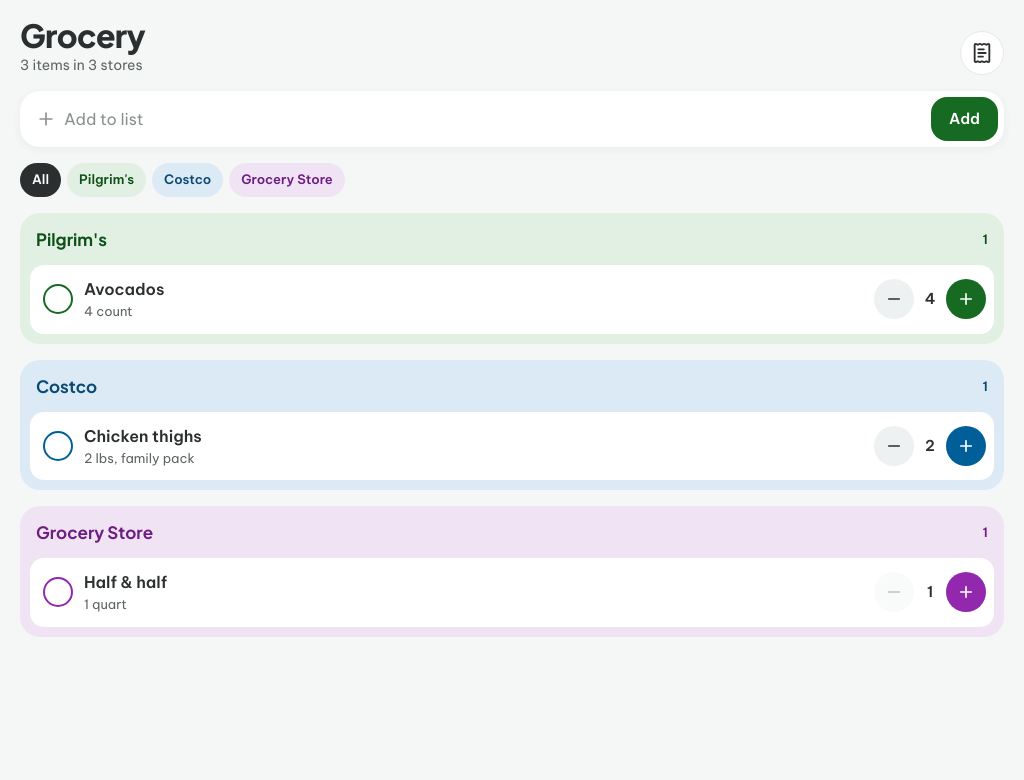
Test: GroceryPage › adds from the add bar on submit and clears the field
Expected: the text "Avocados" is shown, [84,279,164,299]
Type "Milk" into the field labelled "Add to list".
click(494, 119); type("Milk")  # box [64,97,923,141]
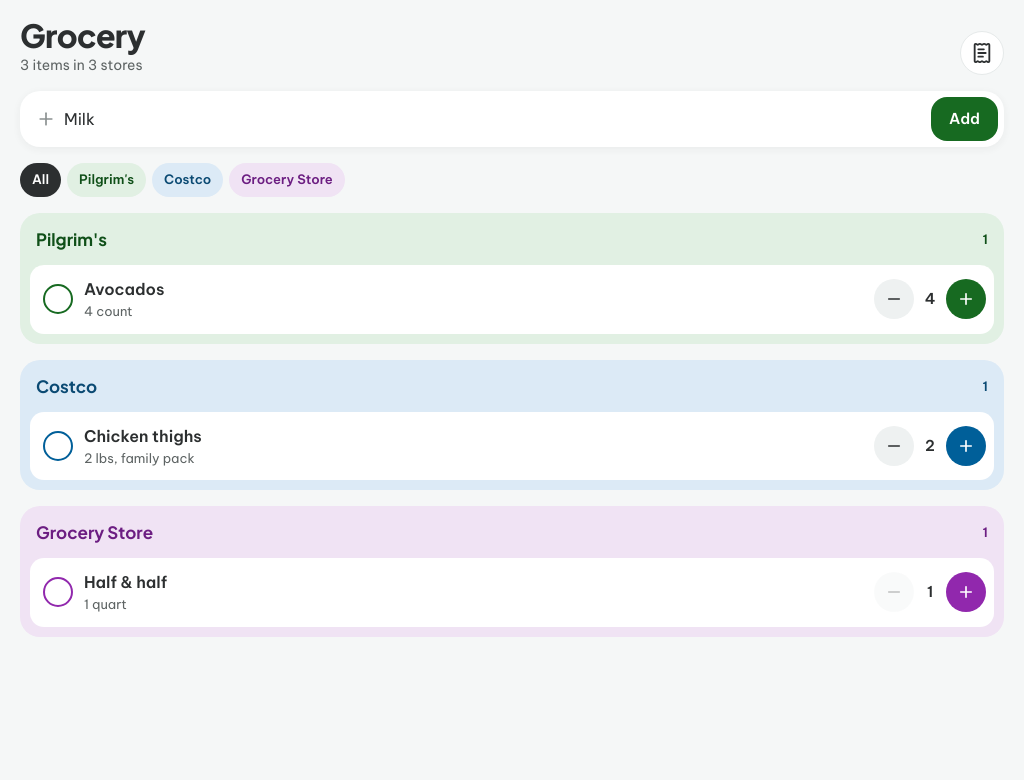
Submit the form named "Add to list", box [20,91,1004,147]
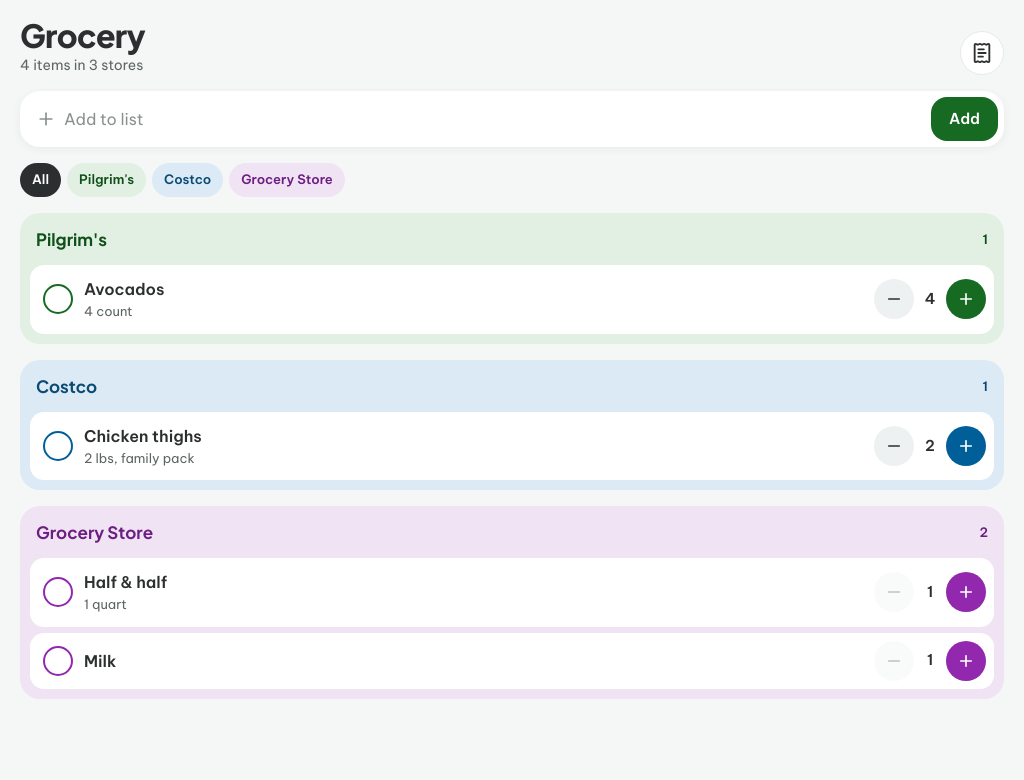
Expected: the field labelled "Add to list" is empty, [64,97,923,141]
Expected: the text "Milk" is shown, [84,651,116,671]
